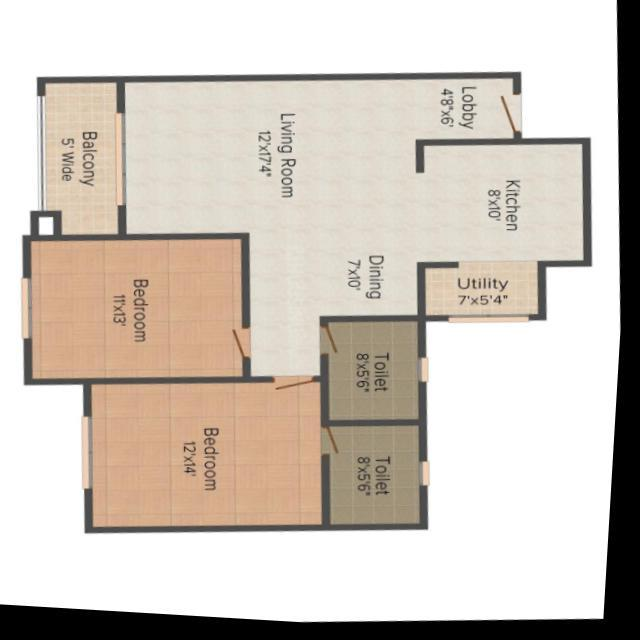Balcony-Sitout: (39, 89, 117, 241)
Bedroom: (38, 241, 249, 385)
Bedroom with Toilet: (95, 381, 432, 536)
Dining: (253, 233, 424, 321)
Enterance-Foyer: (425, 76, 522, 145)
Kitchen: (427, 145, 587, 265)
Living: (125, 77, 428, 238)
Toilet: (337, 321, 423, 424), (340, 428, 426, 528)
Utility: (429, 261, 544, 316)
